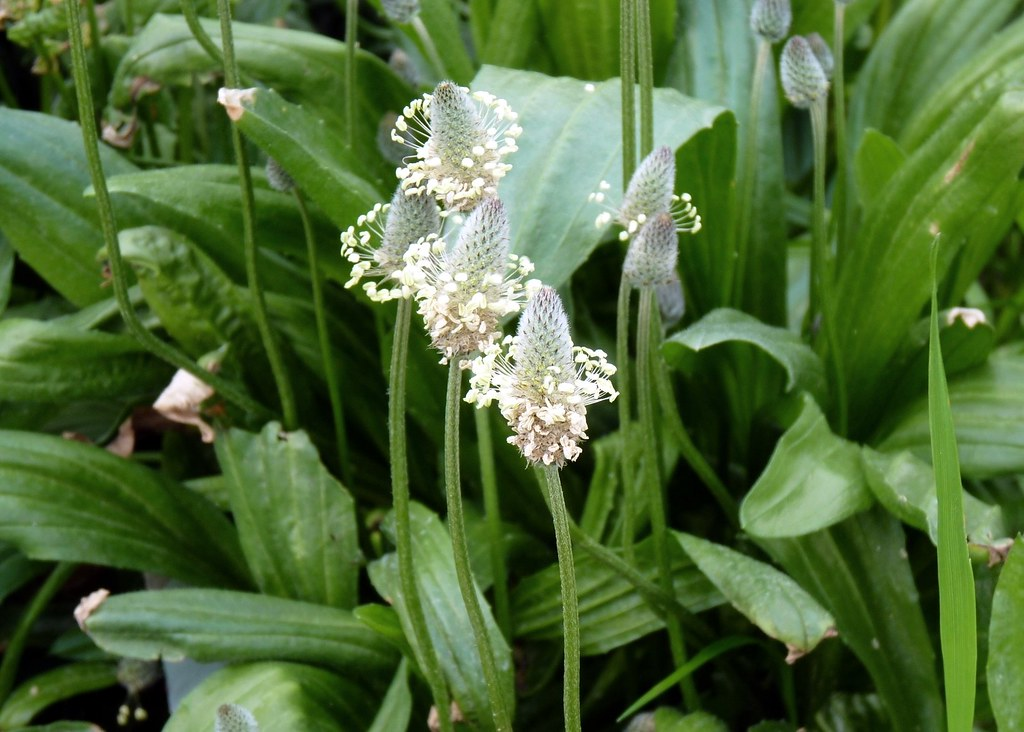buckhorn plantain: (371, 66, 527, 206), (492, 281, 582, 475), (429, 180, 510, 371), (348, 176, 437, 335), (606, 125, 678, 232), (628, 203, 680, 310)
